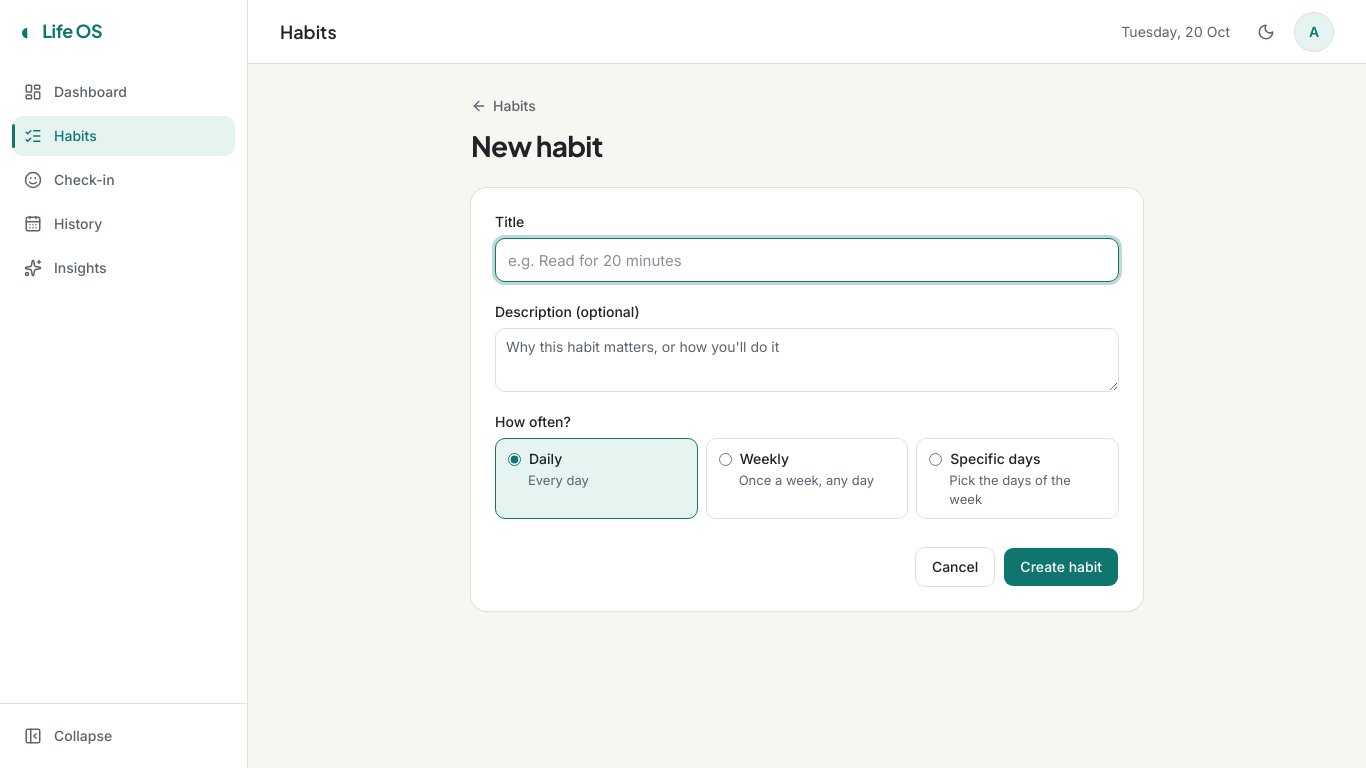
Test case: NewHabitPage › validates before sending anything
Click the radio button labelled "Specific days Pick the days of the week" at (936, 459), box [929, 452, 942, 466]
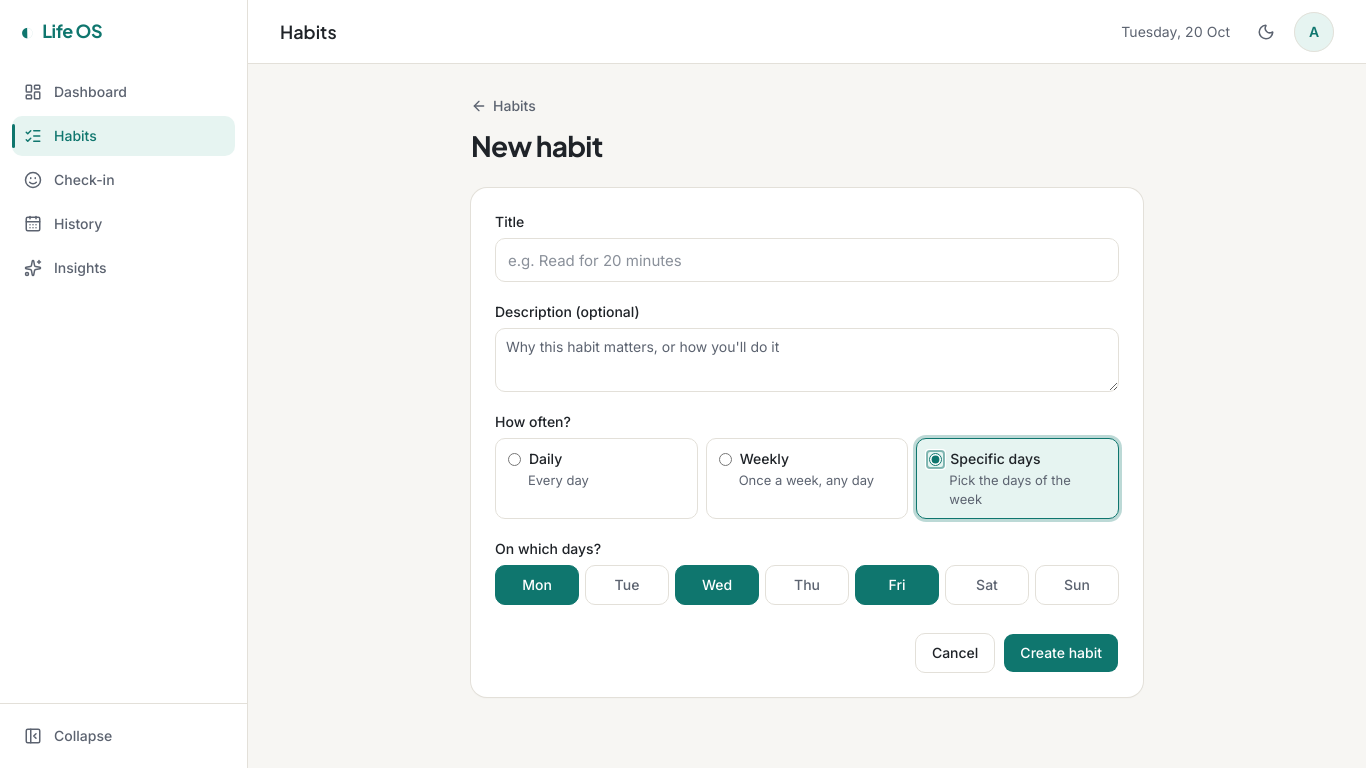
Click the button with aria-label "Monday" at (537, 585), box [495, 565, 579, 605]
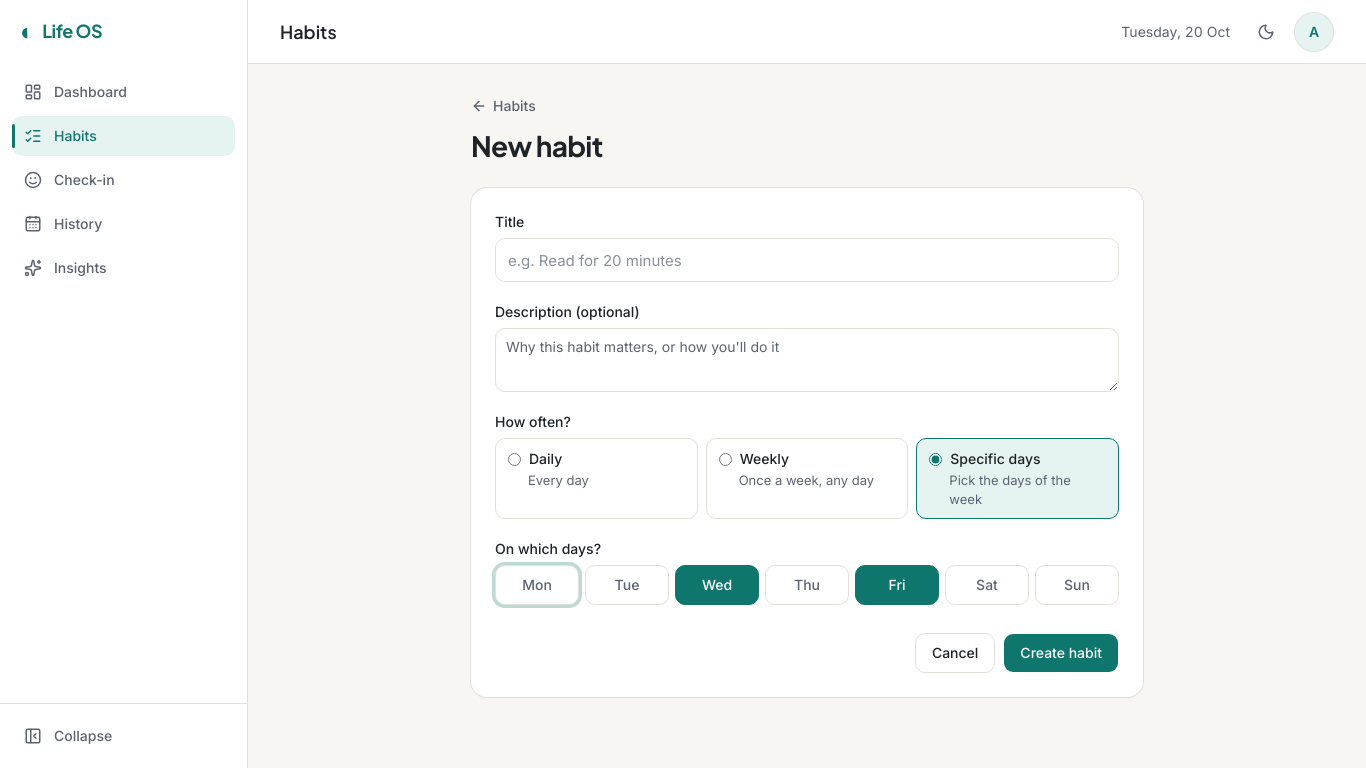
Click the button with aria-label "Wednesday" at (717, 585), box [675, 565, 759, 605]
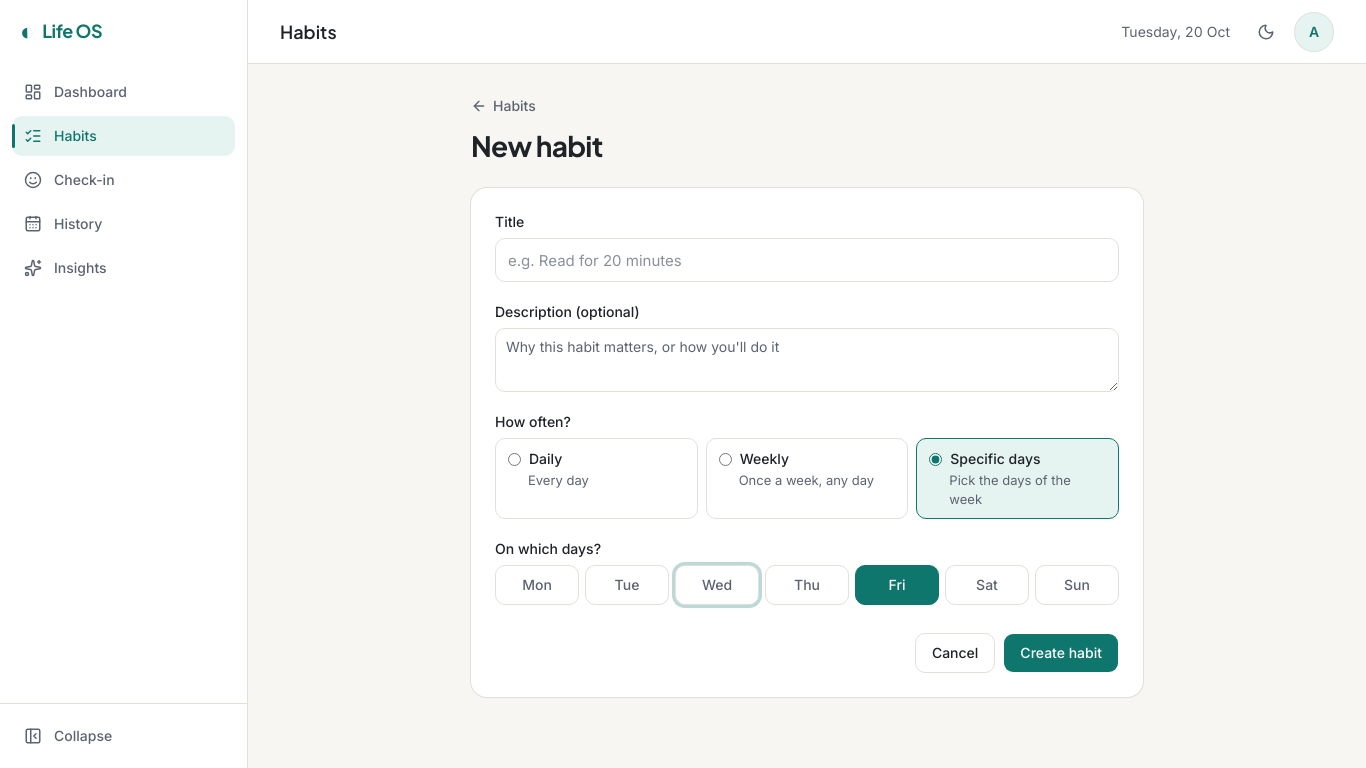
Click the button with aria-label "Friday" at (897, 585), box [855, 565, 939, 605]
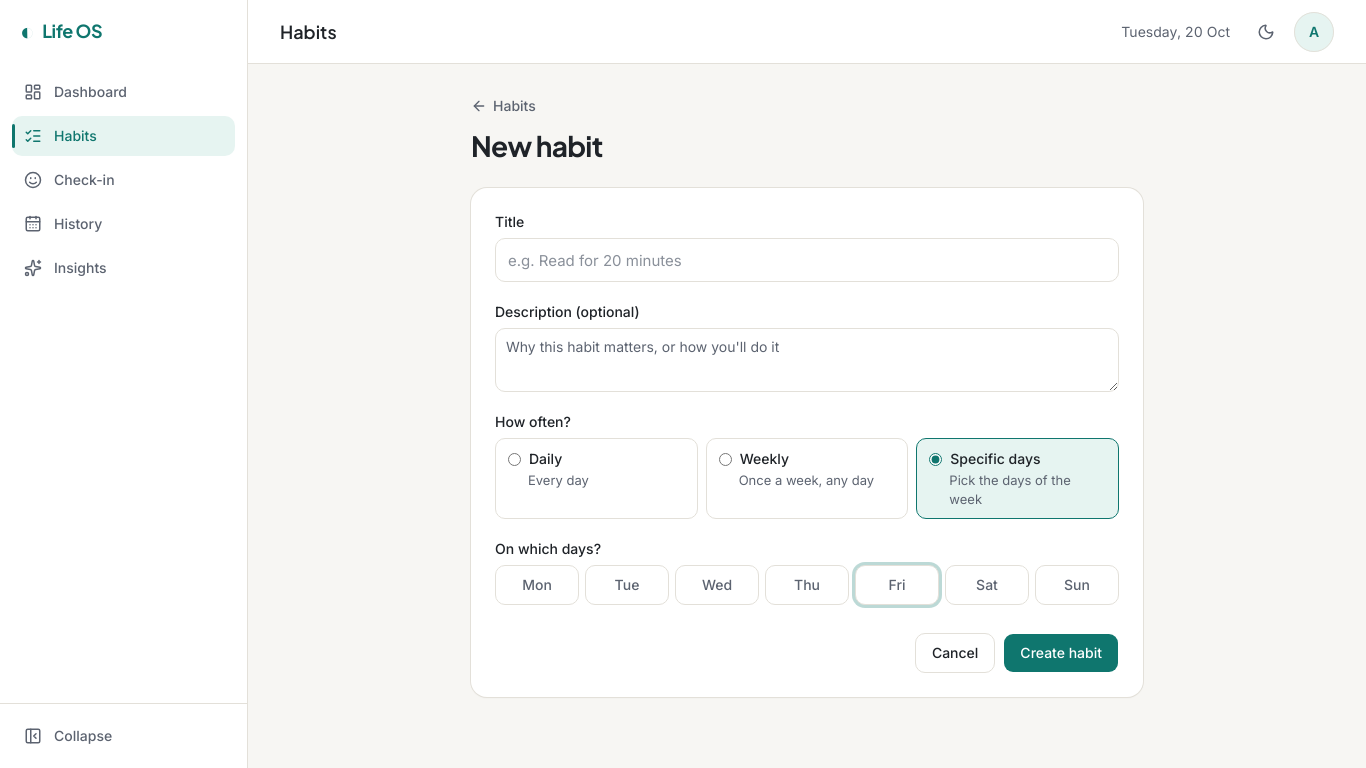
Click the button "Create habit" at (1061, 653), box [1003, 633, 1119, 673]
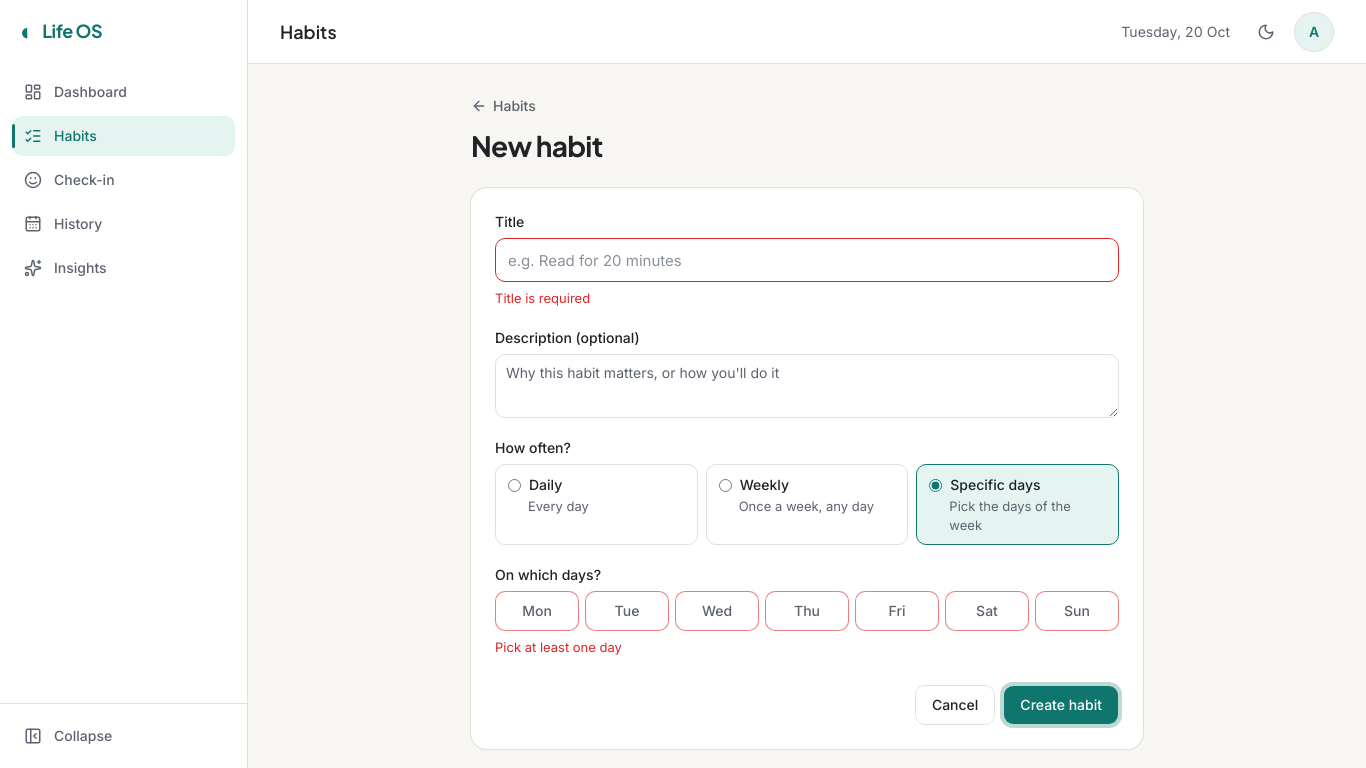
expect the text "Title is required" is shown: met, box [495, 290, 590, 306]
expect the text "Pick at least one day" is shown: met, box [495, 639, 622, 655]
